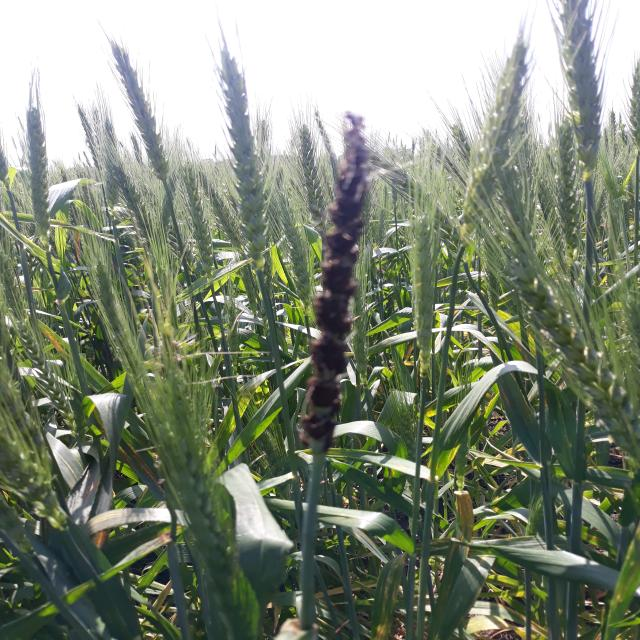loose_charred: (282, 105, 421, 491)
yellow_rust: (110, 431, 183, 502), (364, 569, 422, 640), (67, 482, 127, 550), (466, 601, 561, 640), (484, 358, 536, 428), (440, 488, 483, 571), (490, 506, 531, 557), (58, 221, 105, 265), (35, 314, 77, 362), (311, 569, 360, 609), (504, 328, 558, 363), (146, 578, 183, 627)
